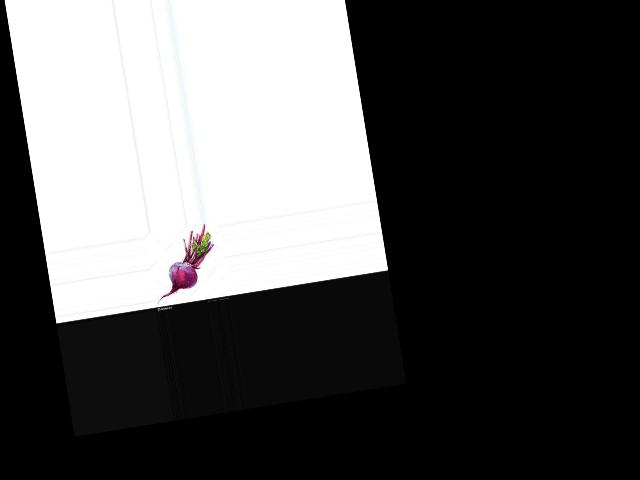beet: (146, 222, 221, 303)
